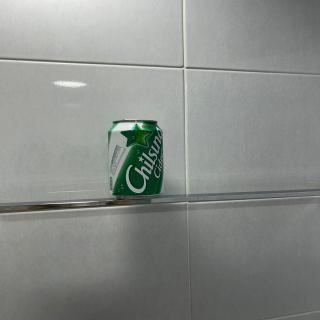cocacola: (107, 116, 167, 202)
